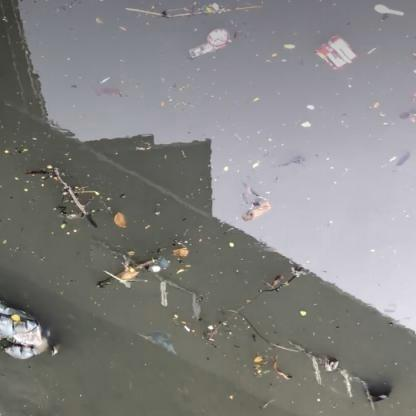Trash: (0, 303, 59, 363), (312, 32, 360, 74), (187, 25, 233, 61), (370, 2, 405, 20)
